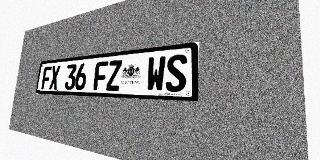3: (64, 64, 77, 90)
6: (74, 63, 88, 90)
F: (93, 61, 108, 90), (41, 66, 52, 89)
S: (165, 54, 187, 92)
W: (146, 56, 166, 92)
X: (49, 65, 60, 89)
Z: (106, 60, 122, 91)
